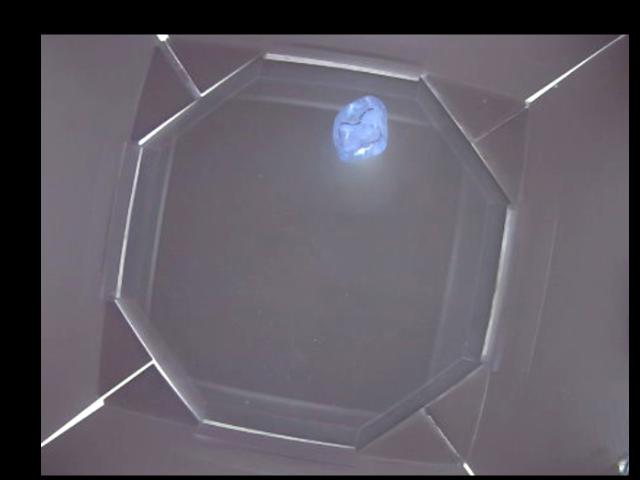Pebble: (333, 96, 388, 164)
